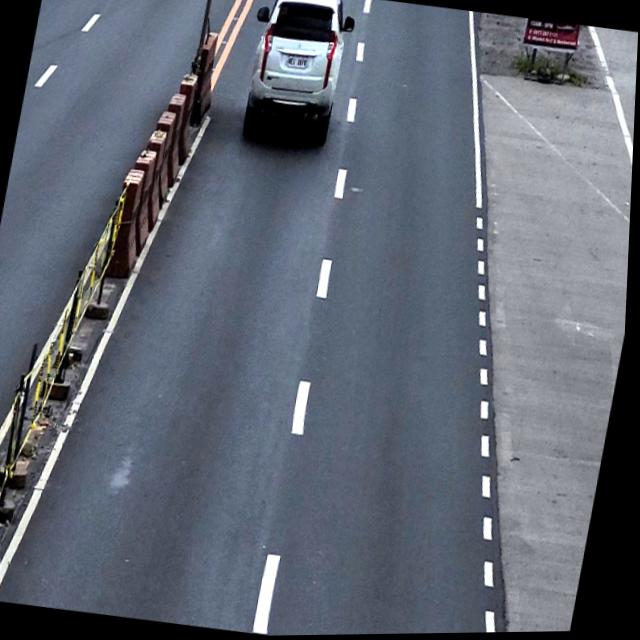Car: (235, 0, 359, 150)
License-Plate: (284, 52, 311, 72)
